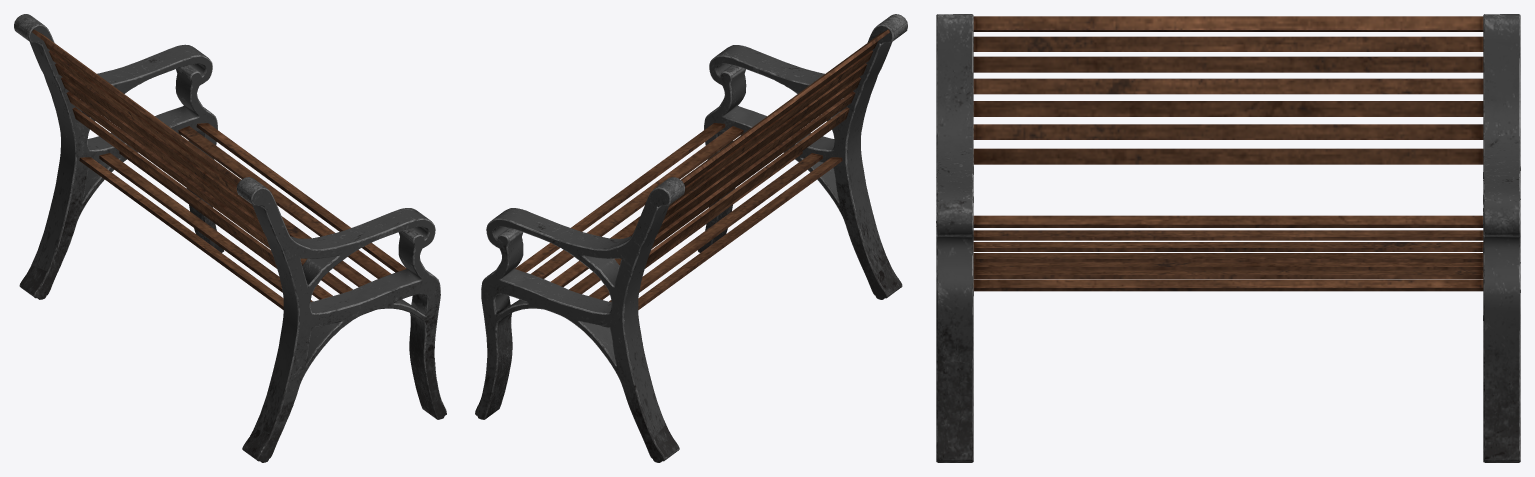
The picture shows the model from 3 angles, left to right: view 1: azimuth 30°, elevation 25°; view 2: azimuth 150°, elevation 25°; view 3: azimuth 270°, elevation 25°; orthographic projection. The views are drawn at different scales.
Parts seen in each view (by area): view 1: Cube.013; view 2: Cube.013; view 3: Cube.013.
Boxes of the visible parts, left/top/right/bottom form: Cube.013: left=14, top=14, right=446, bottom=462; Cube.013: left=475, top=14, right=907, bottom=462; Cube.013: left=936, top=14, right=1520, bottom=462.
Bounding box in the file's own units: 1659 × 2233 × 3491.
Materials: 1 (1 with a texture image).
